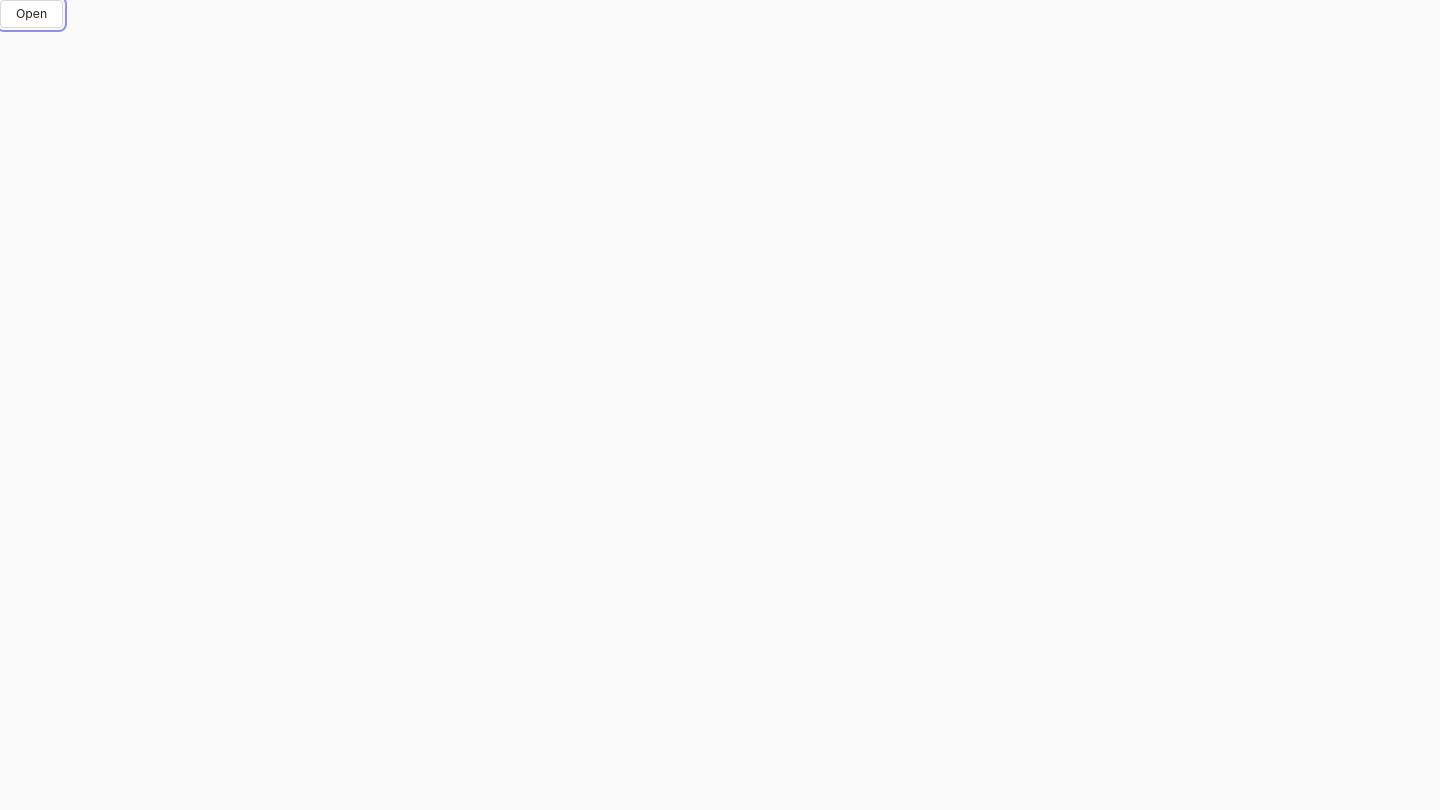
Modal › moves focus in, traps Tab, closes on Esc, locks scrolling and gives focus back
Click the button "Open": (32, 14) [0, 0, 63, 28]
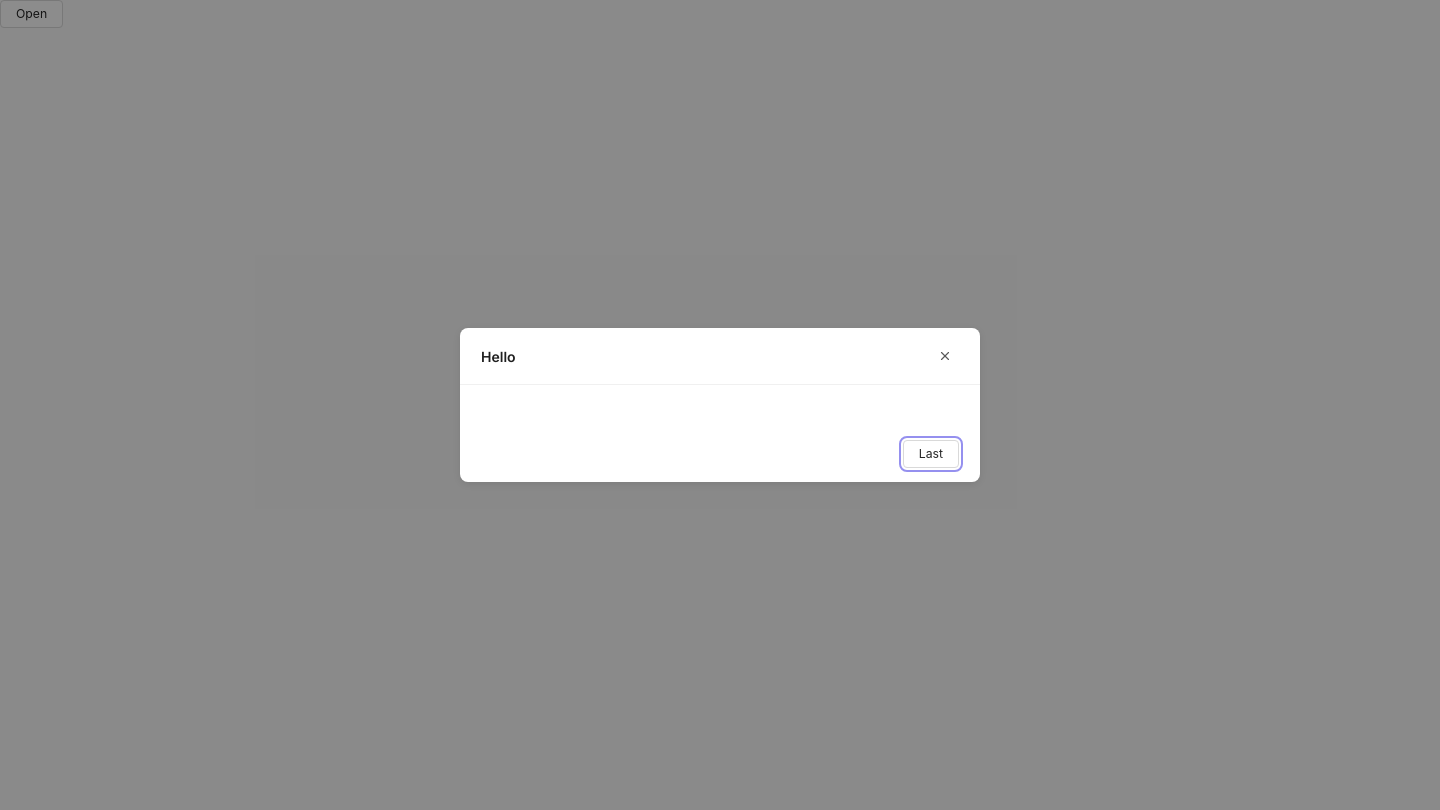
Press Tab in the button "Last", box [903, 440, 959, 468]
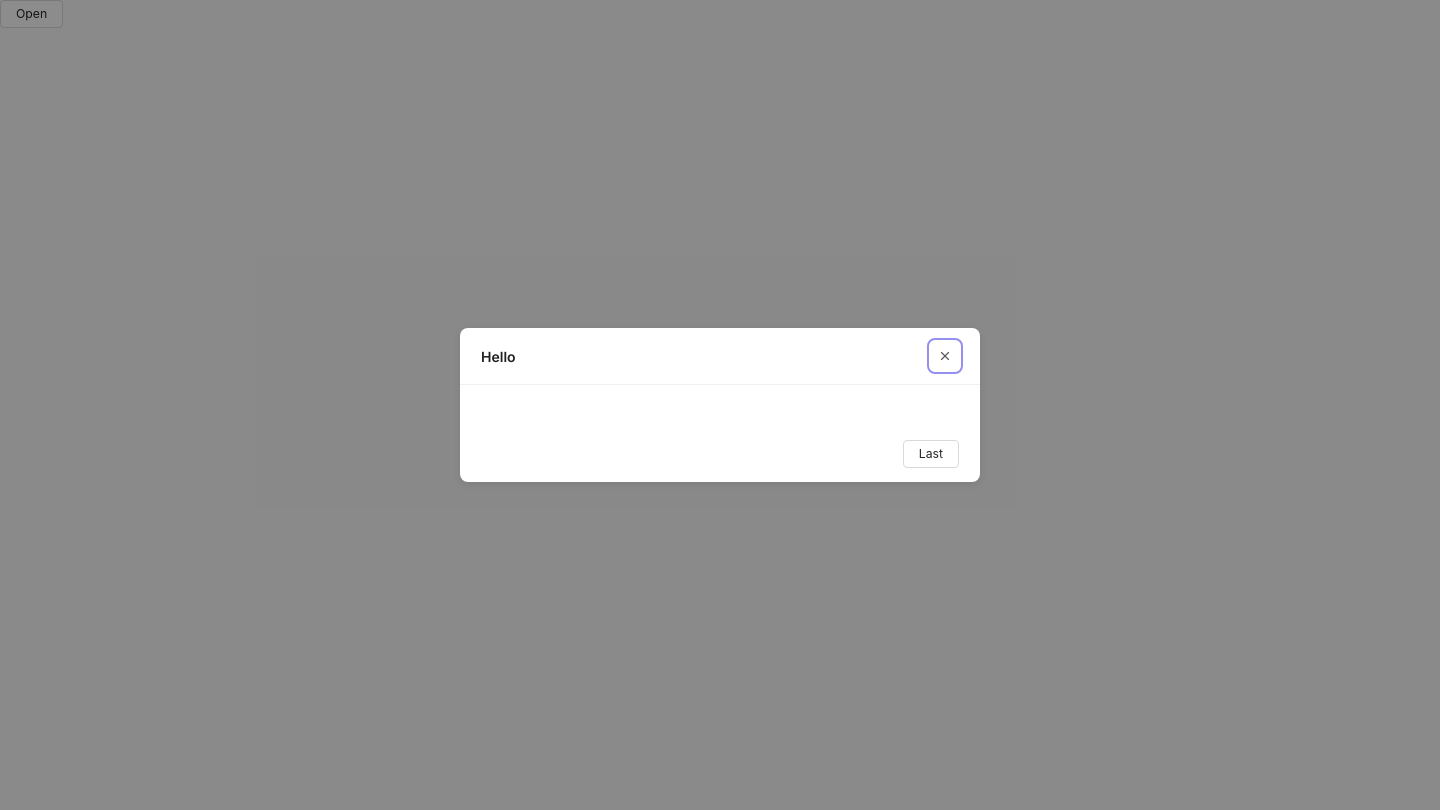
Press Tab in the button named "Close", box [931, 342, 959, 370]
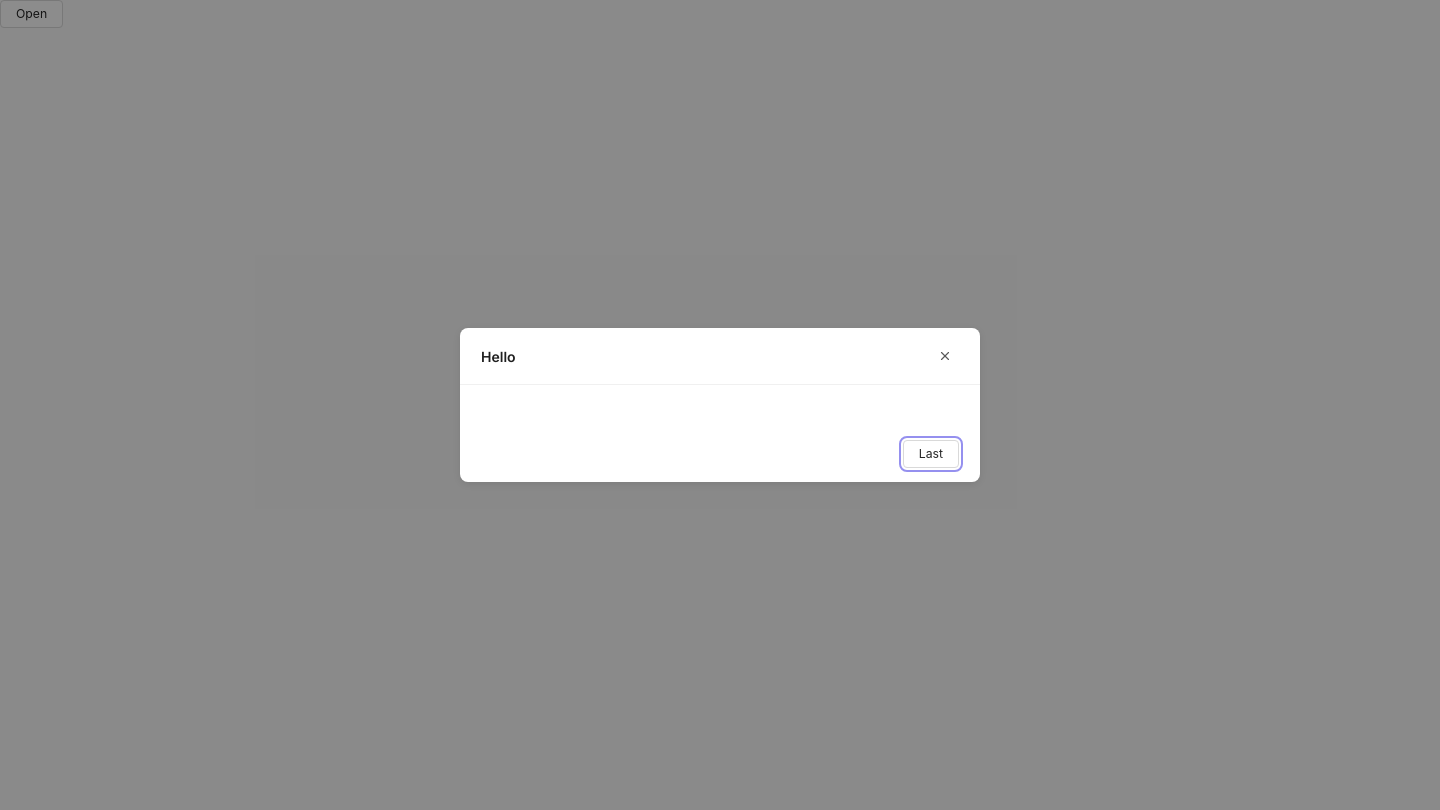
Press Escape in the button "Last", box [903, 440, 959, 468]
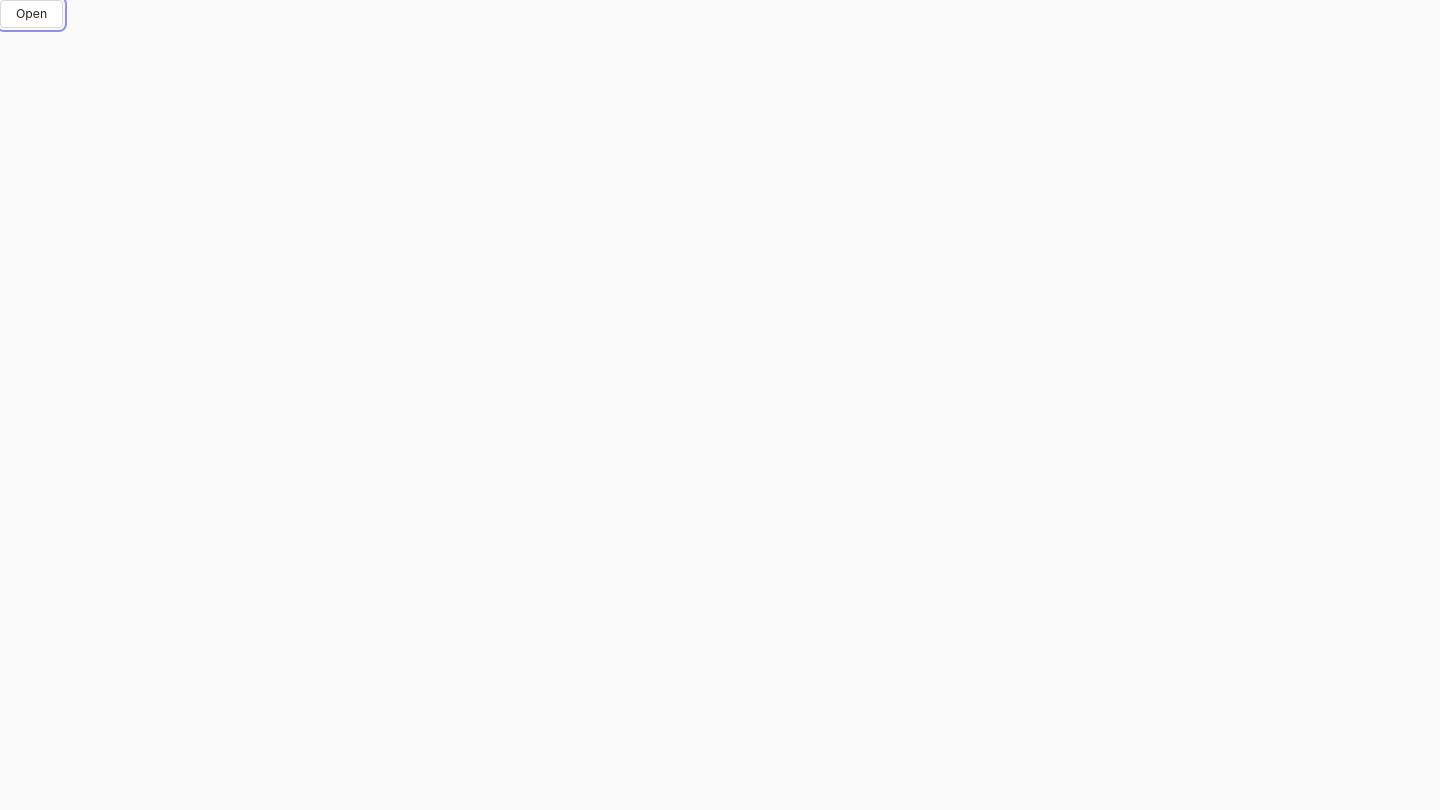
Check: the dialog is gone
